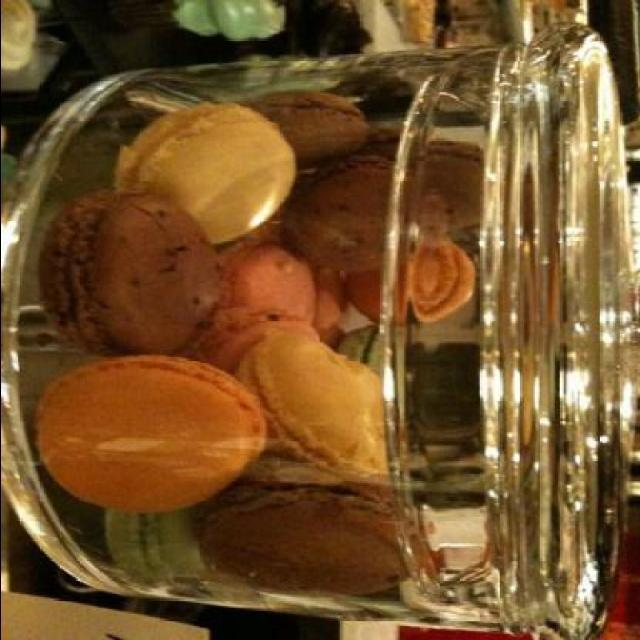Macaron: (48, 64, 464, 602)
